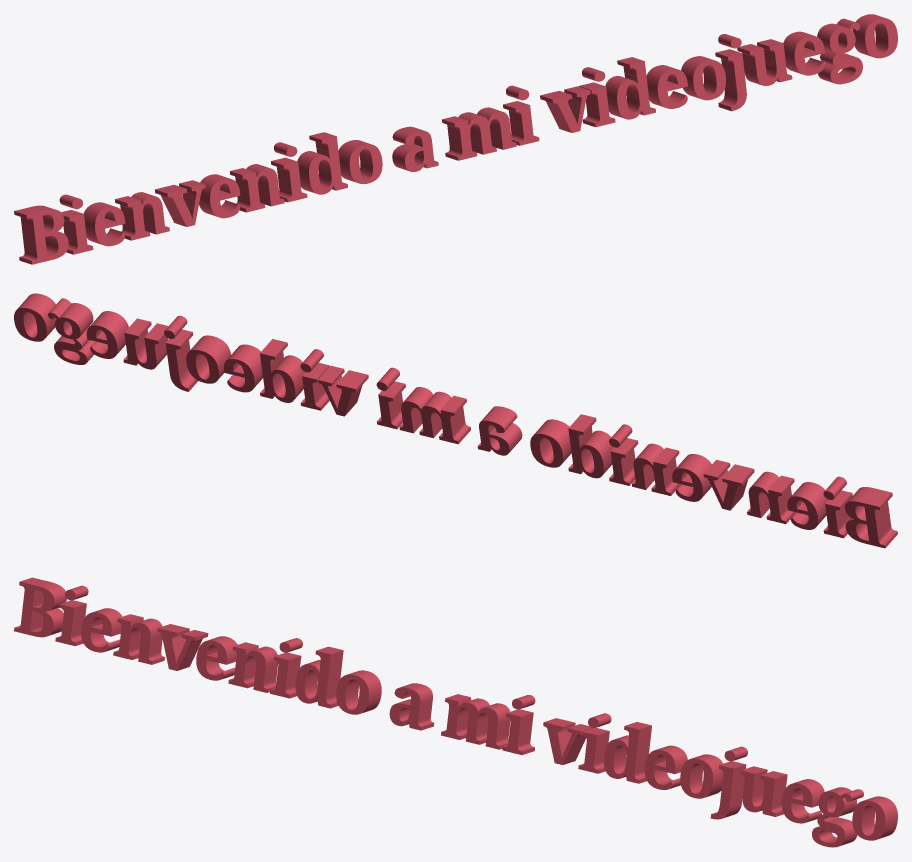
Rendered from Mighty Migelo-Elzing.glb.
3 renders of one model, top to bottom at view 1: azimuth 30°, elevation 25°; view 2: azimuth 150°, elevation 25°; view 3: azimuth 330°, elevation 25°, orthographic.
Visible parts, largest first — view 1: Mesh_Mesh_head_geo.001_lambert2SG.001; view 2: Mesh_Mesh_head_geo.001_lambert2SG.001; view 3: Mesh_Mesh_head_geo.001_lambert2SG.001.
Part boxes in pixels (x1=…): Mesh_Mesh_head_geo.001_lambert2SG.001: x1=14, y1=14, x2=897, y2=264; Mesh_Mesh_head_geo.001_lambert2SG.001: x1=14, y1=293, x2=897, y2=548; Mesh_Mesh_head_geo.001_lambert2SG.001: x1=14, y1=577, x2=897, y2=847.
Size of the model in its own units: 386 by 29.56 by 15.84.
